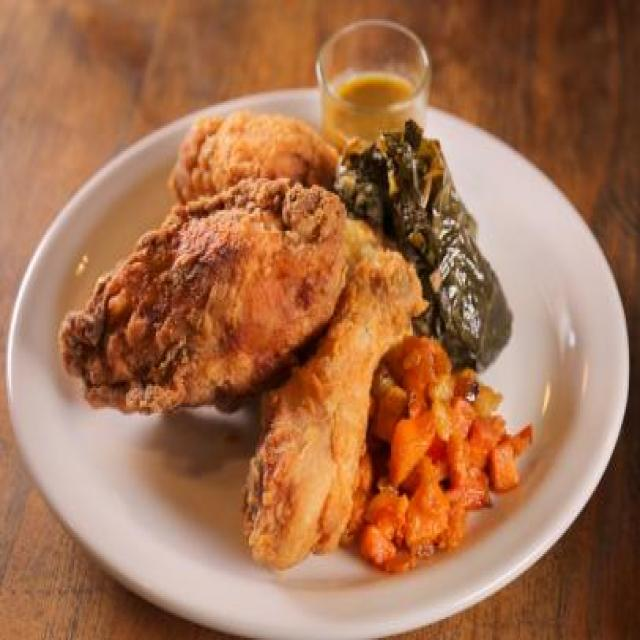Frango: (57, 103, 429, 575)
